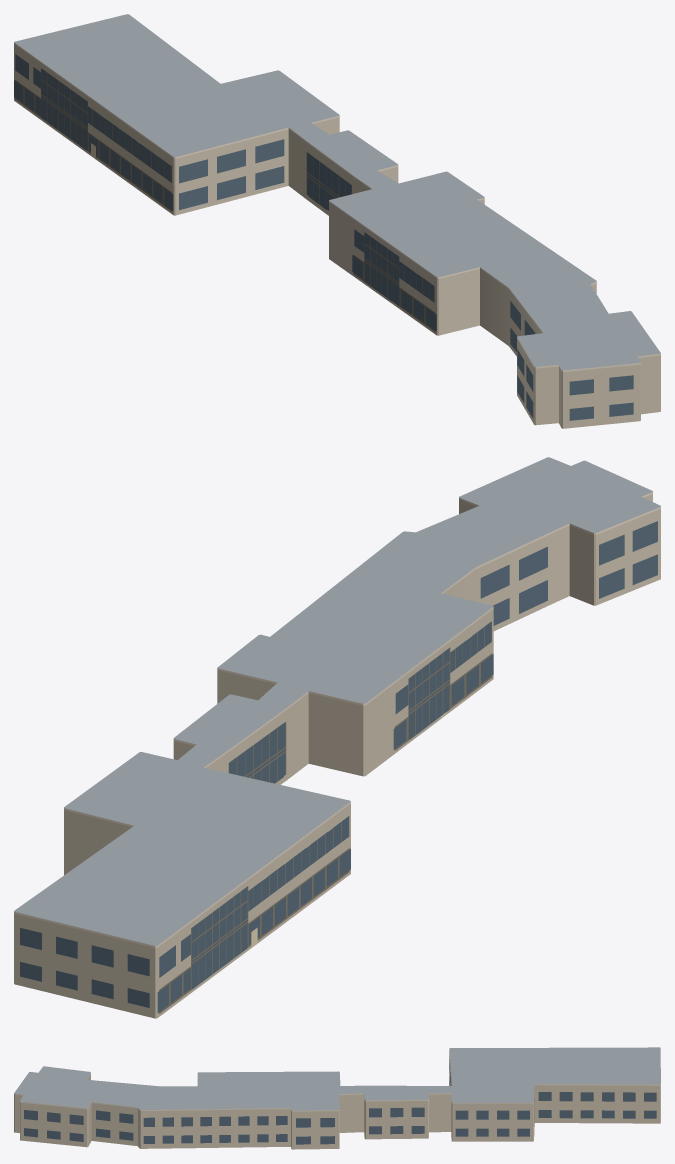
File: dc-au-don-myers-technology-and-innovation-building.glb
3 views of the same model, one above another, from view 1: azimuth 30°, elevation 25°; view 2: azimuth 150°, elevation 25°; view 3: azimuth 270°, elevation 25° (orthographic). The views are drawn at different scales.
Parts seen in each view (by area): view 1: Don Myers Technology and Innovation Building; view 2: Don Myers Technology and Innovation Building; view 3: Don Myers Technology and Innovation Building.
Boxes of the visible parts, bbox=[...] form: Don Myers Technology and Innovation Building: bbox=[14, 14, 660, 428]; Don Myers Technology and Innovation Building: bbox=[14, 457, 660, 1018]; Don Myers Technology and Innovation Building: bbox=[14, 1047, 660, 1149].
Bounding box in the file's own units: 38.47 × 11 × 166.
